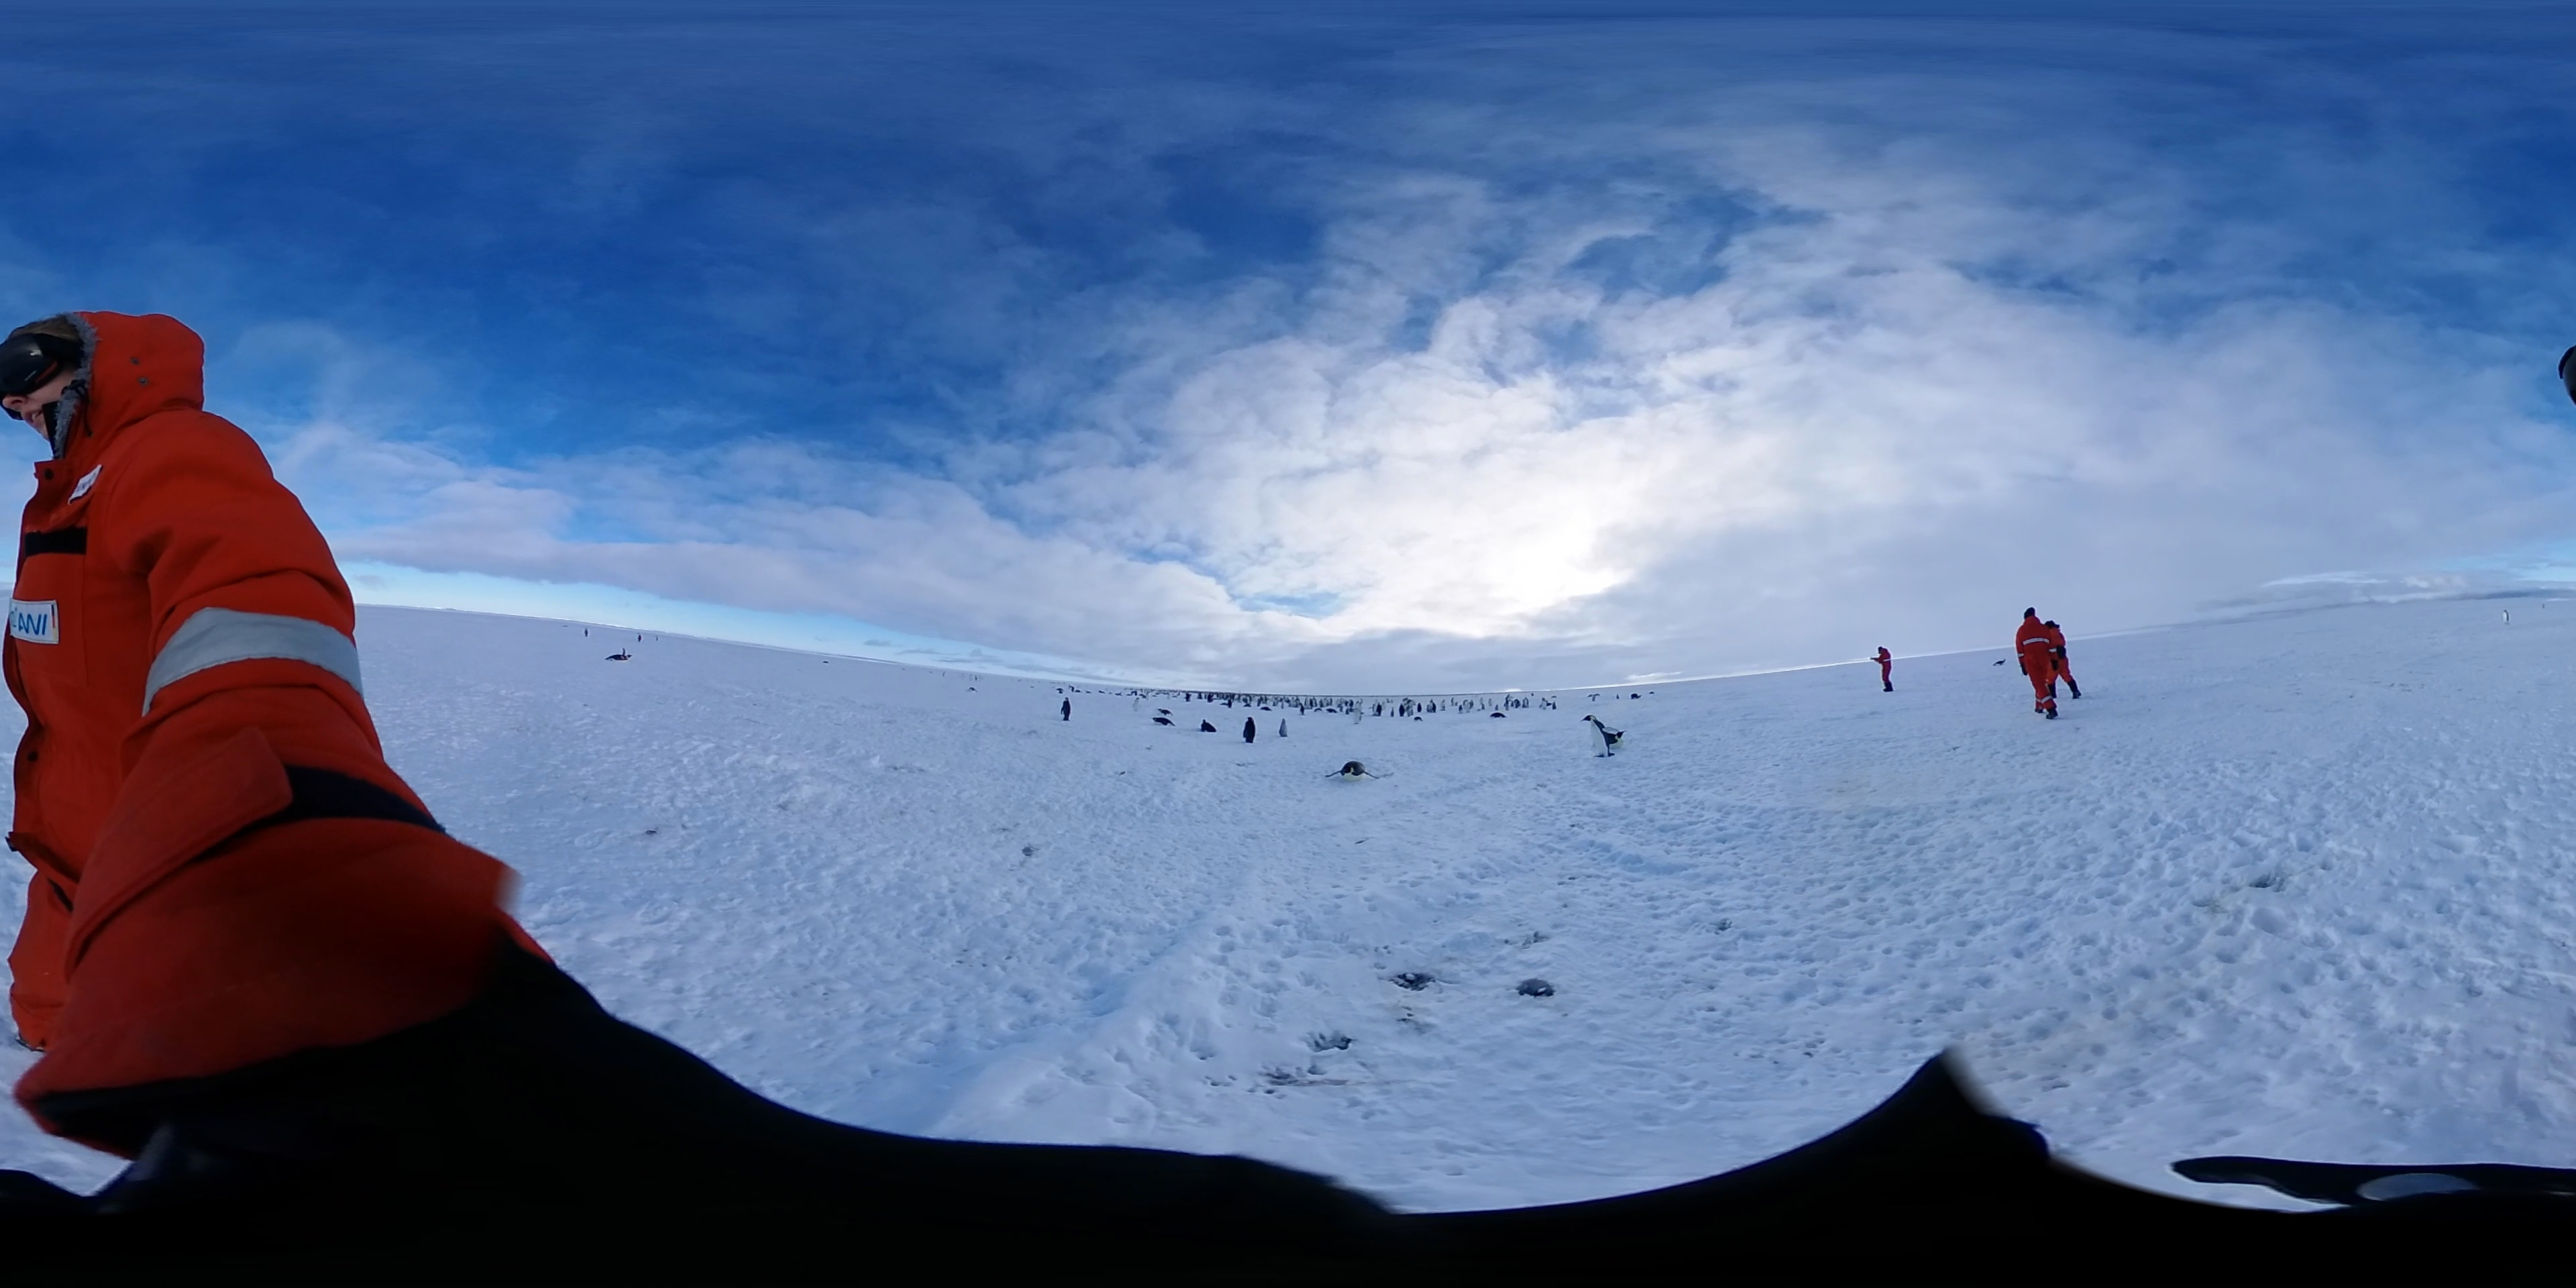adult_standing_penguin: (1580, 713, 1613, 761), (1242, 715, 1257, 746), (1058, 695, 1071, 724), (2499, 608, 2514, 628)
adult_toboggan_penguin: (1324, 757, 1383, 782), (1600, 729, 1630, 749), (1199, 718, 1219, 734), (605, 649, 632, 660), (1148, 715, 1178, 724), (1991, 655, 2006, 667)
juvenile_penguin: (1276, 716, 1288, 736)
researcher: (2, 297, 565, 1074), (2014, 605, 2060, 720), (2044, 618, 2083, 700), (1865, 644, 1896, 692)
